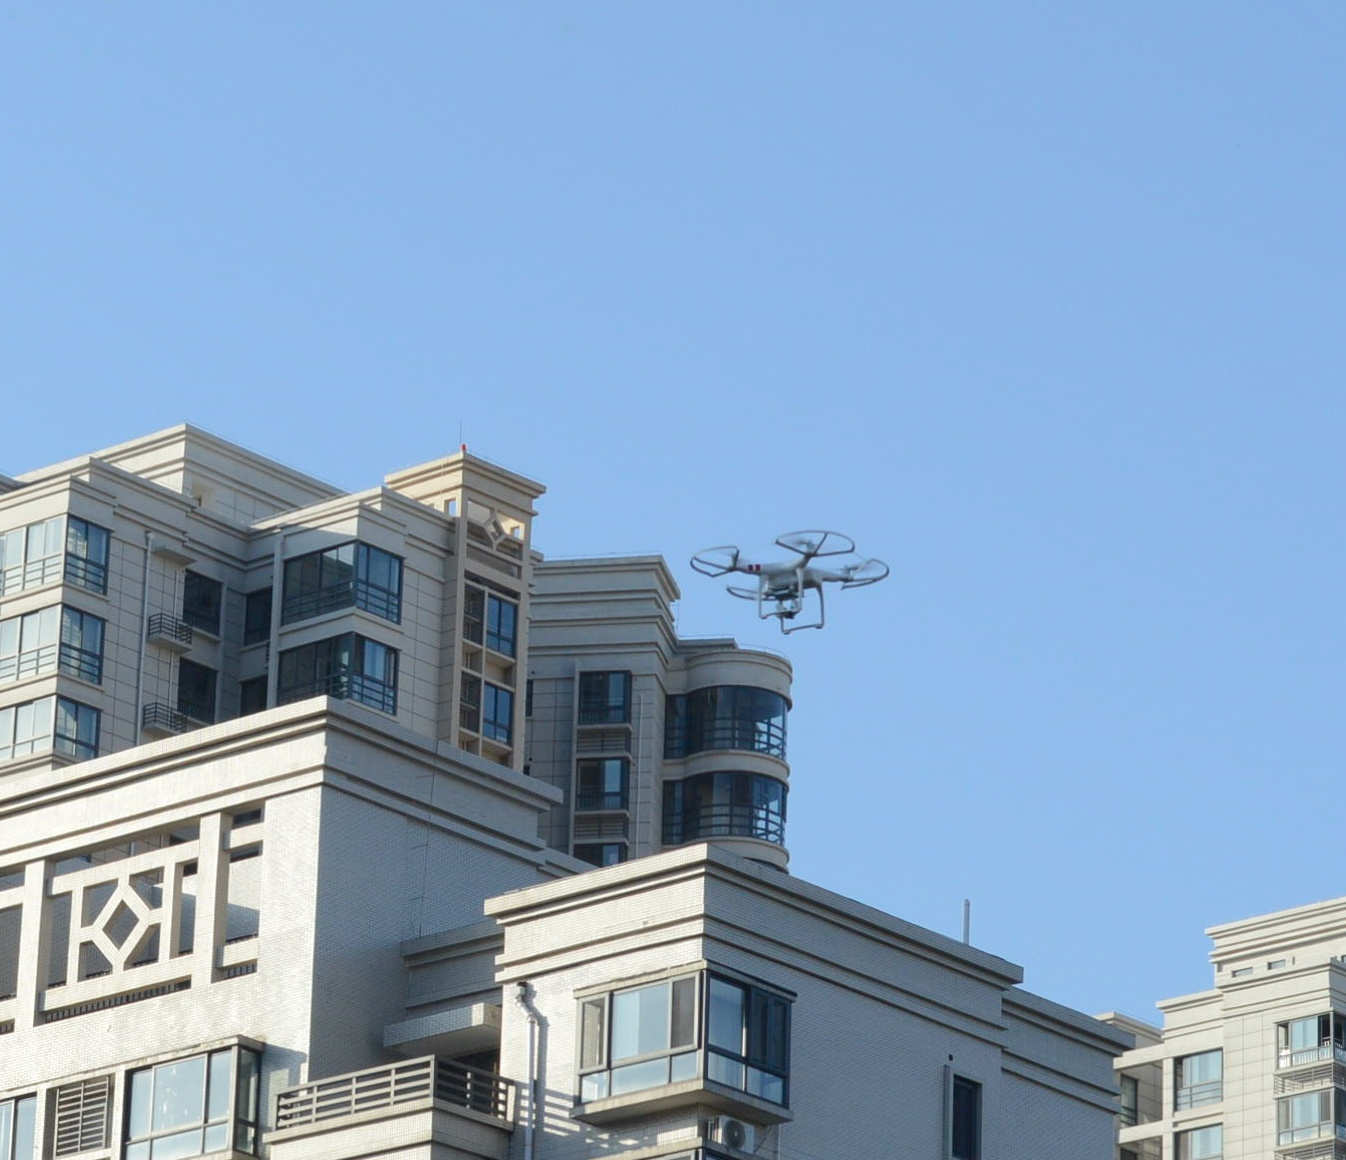DJI: (691, 527, 893, 634)
